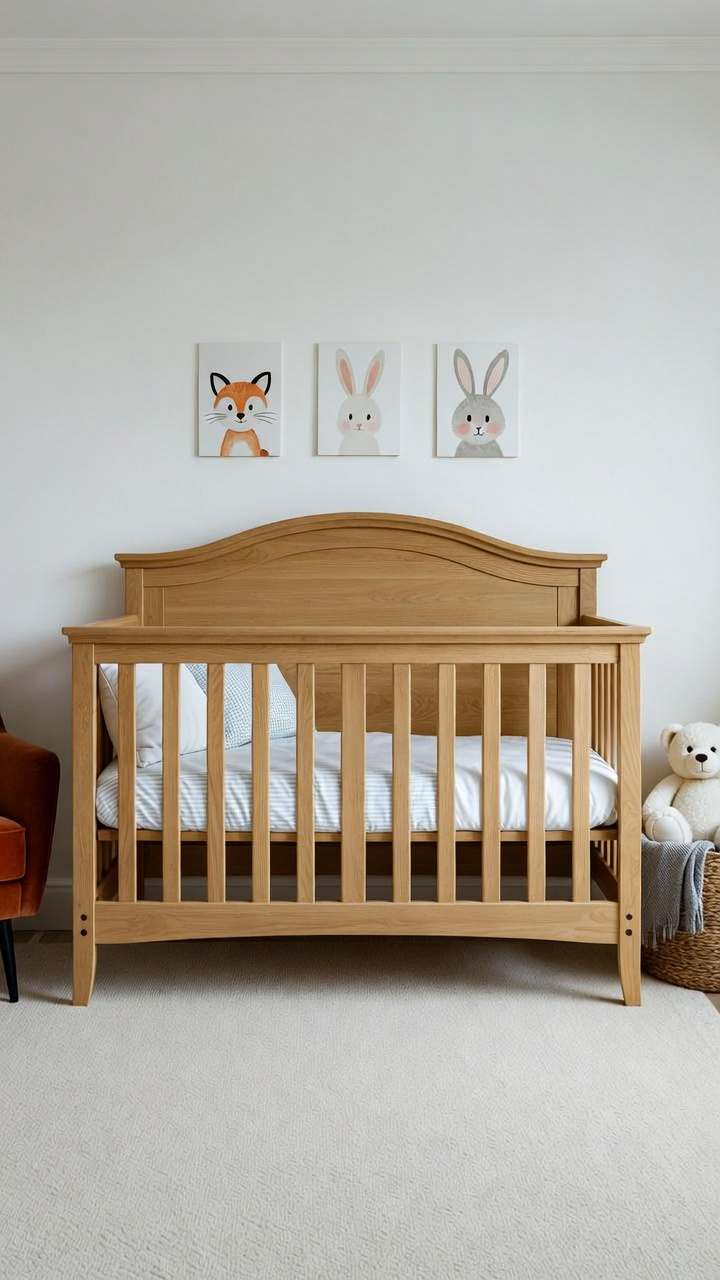crib: (65, 513, 648, 1003)
